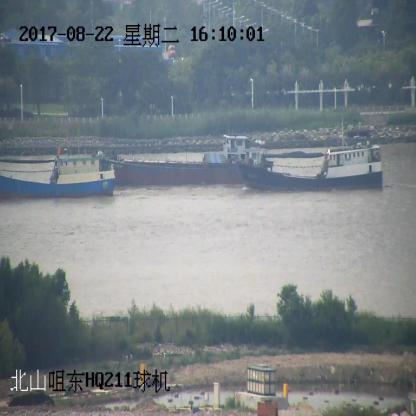Fishing Boat: (238, 125, 382, 193), (0, 146, 118, 200)
